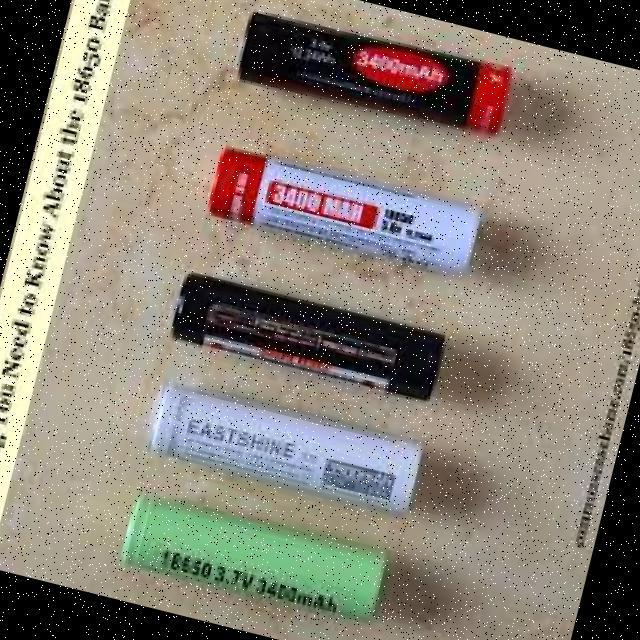AAA: (146, 381, 423, 514), (205, 144, 482, 276), (171, 271, 446, 400), (119, 493, 389, 621), (237, 10, 512, 135)
